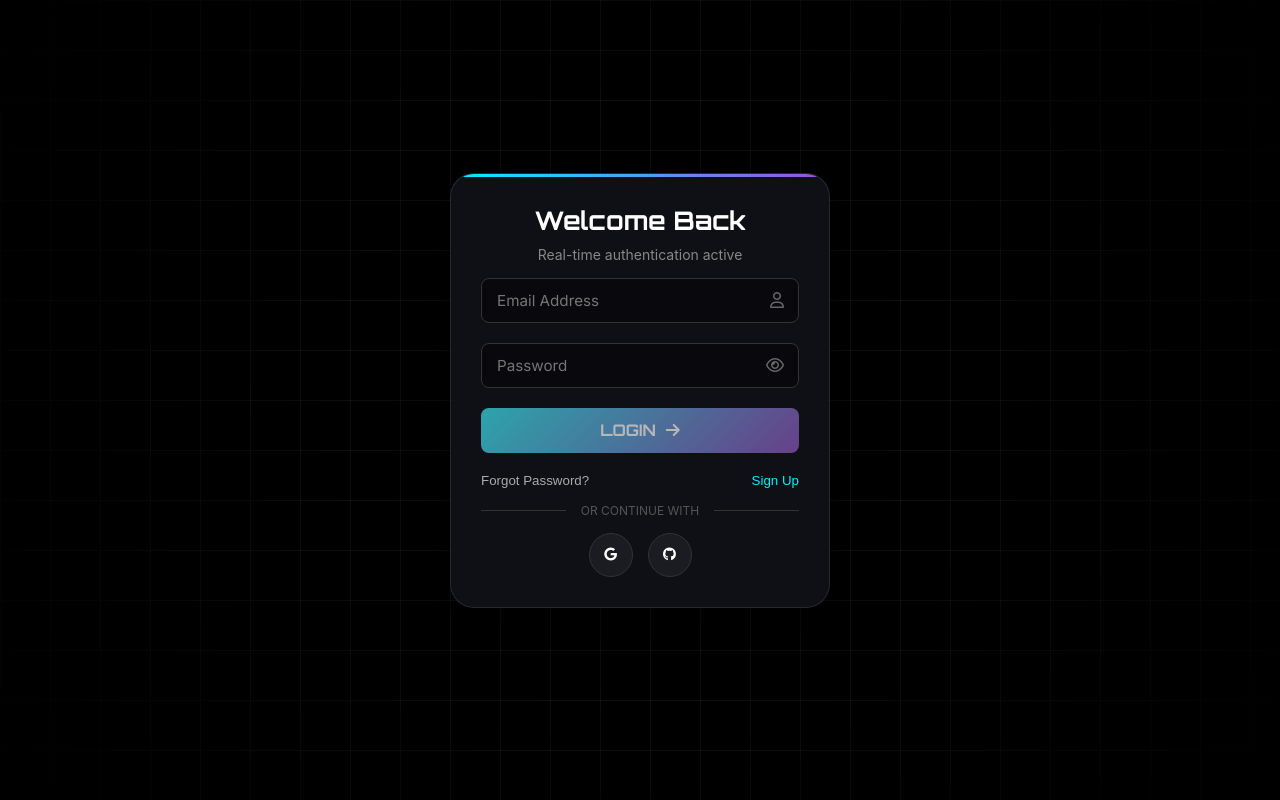
LumoFlow Authentication Flow › LoginScreen › displays error on failed login
Type "wrong@example.com" into the field with placeholder "Email Address" at (640,300), box [481,278,799,322]
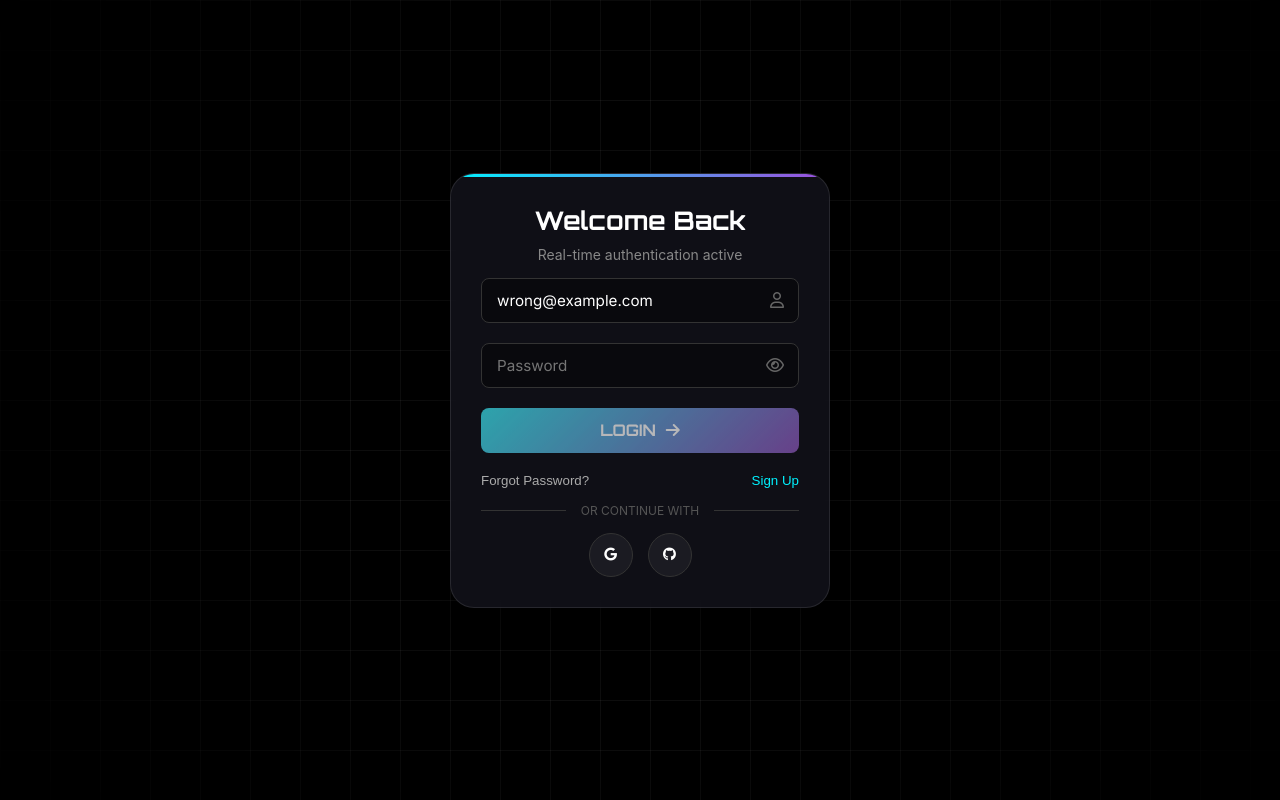
Type "wrongpass" into the password field with placeholder "Password" at (640,365), box [481,342,799,388]
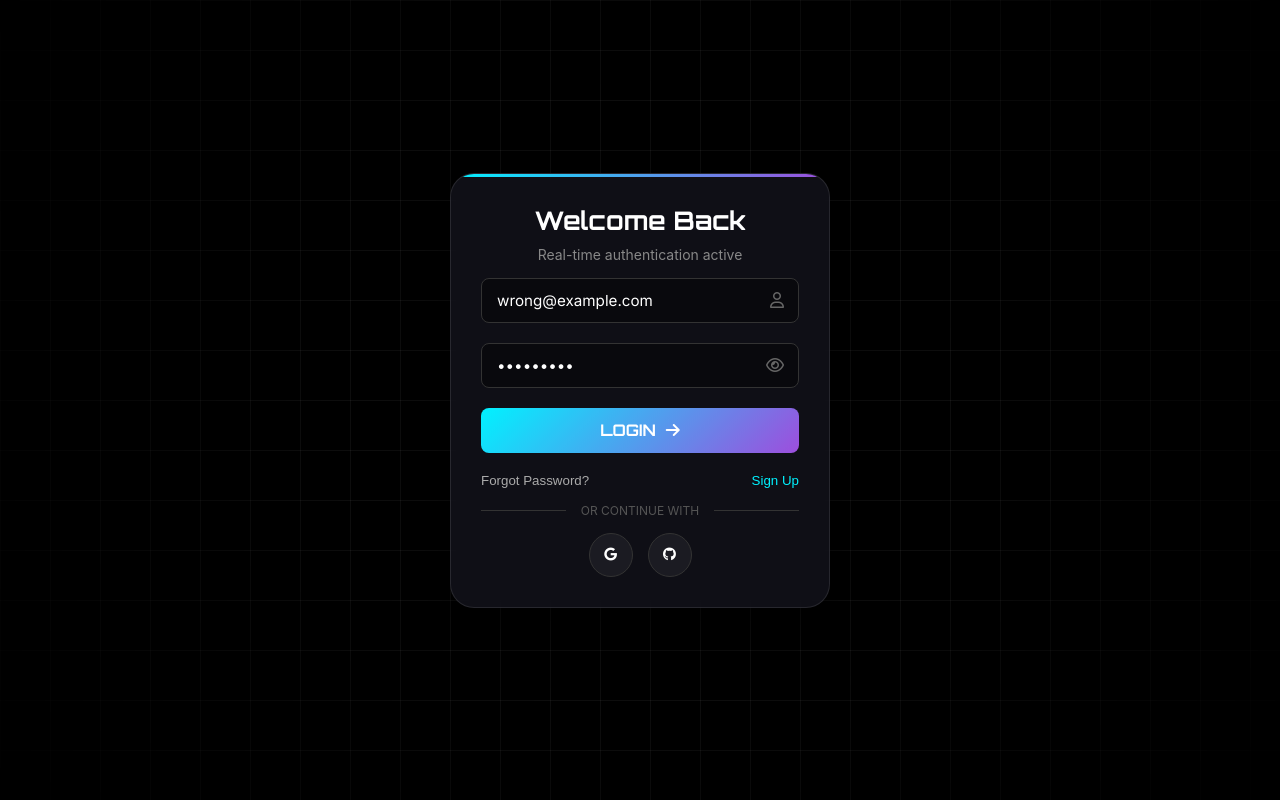
Click the button "LOGIN" at (640,430), box [481,408,799,452]
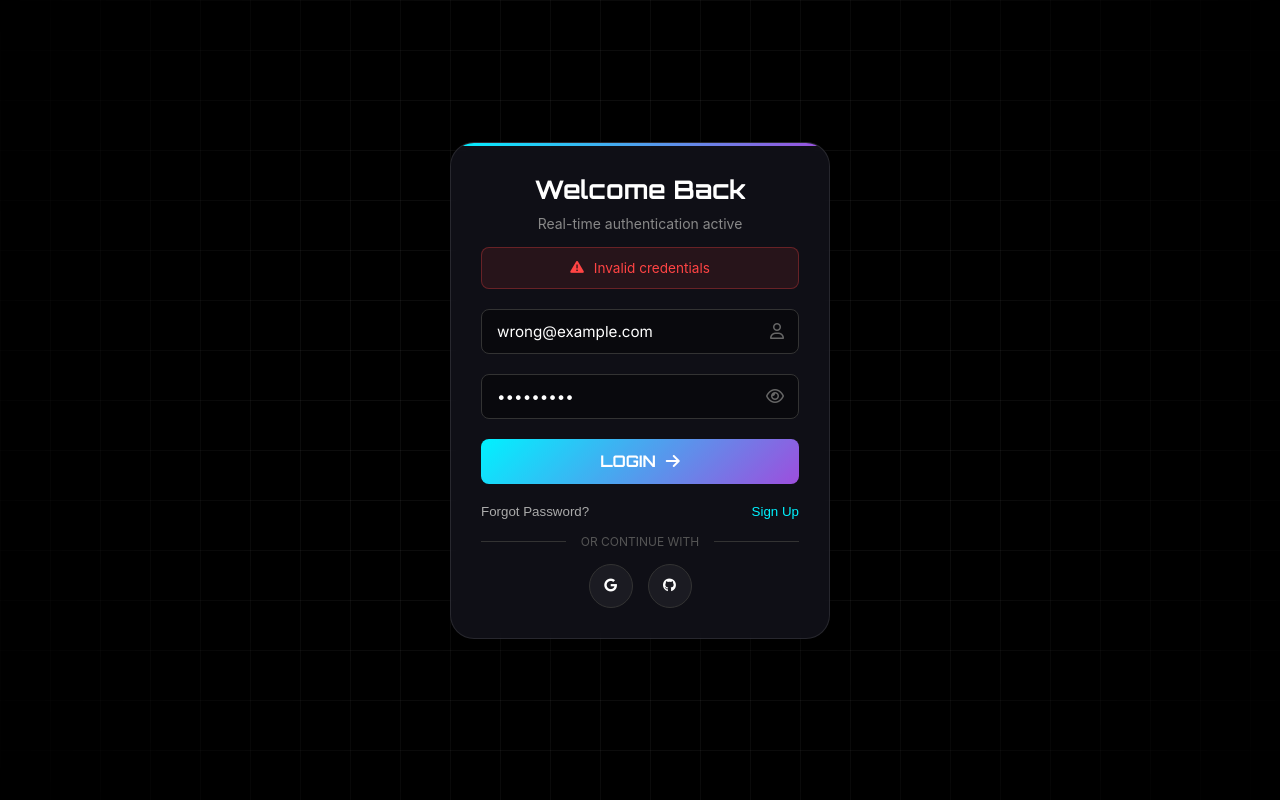
expect the text "Invalid credentials" is shown: met, box [594,260,710,276]
